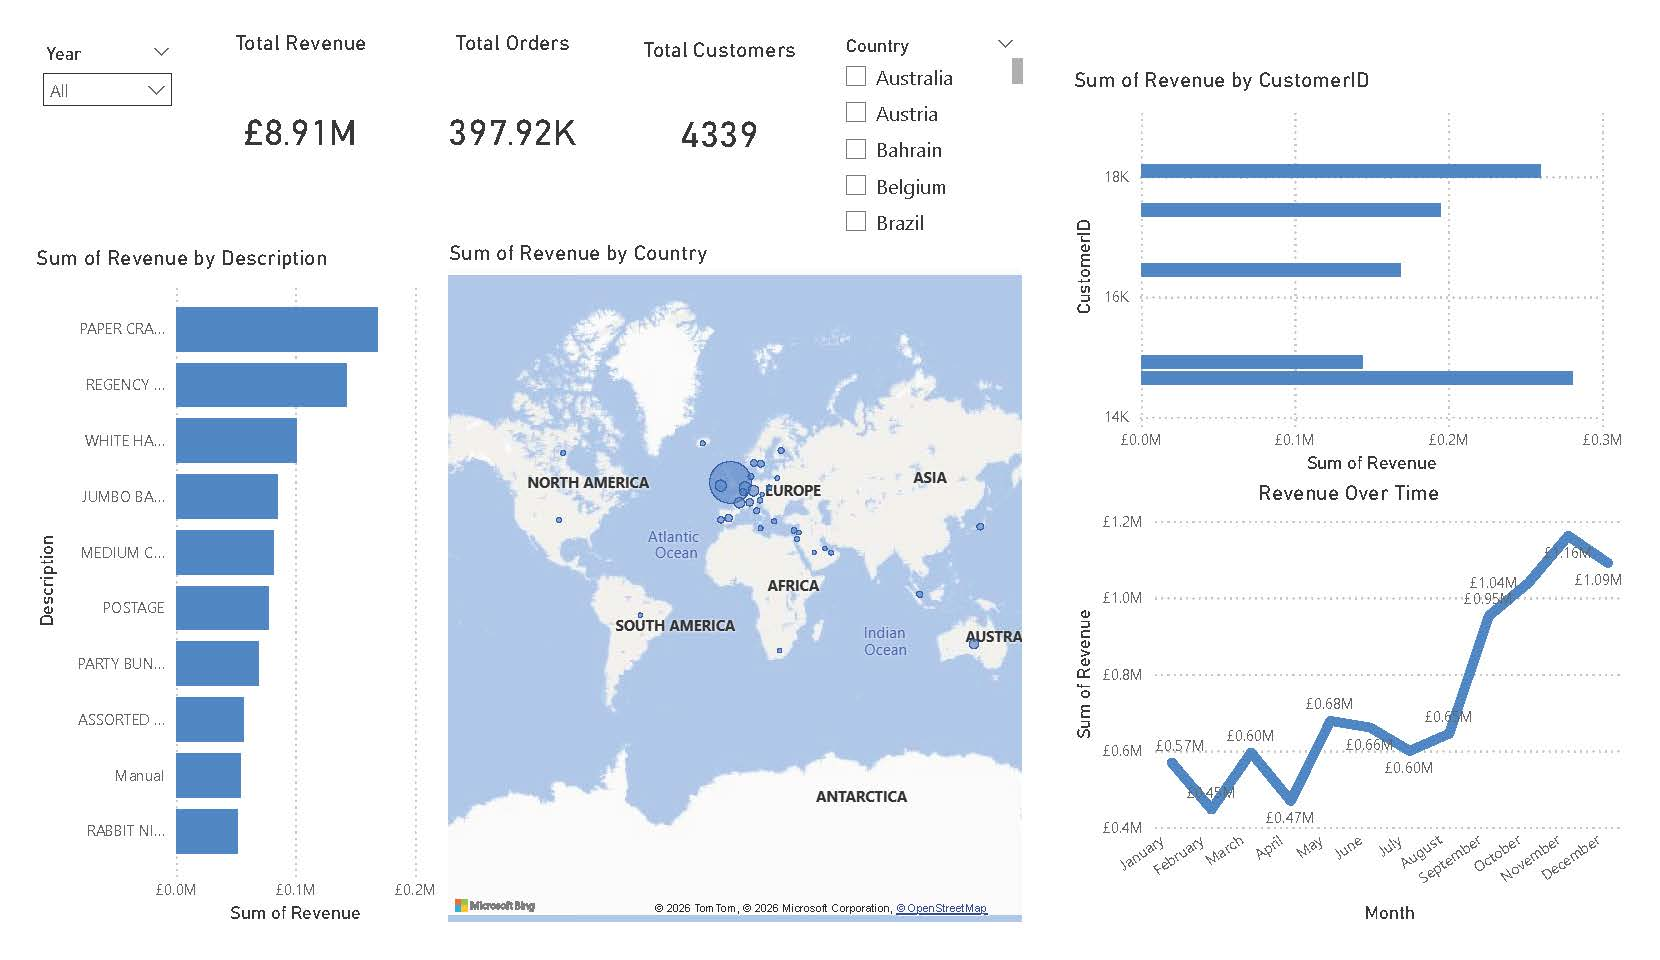

The dashboard page shown, as its layout file describes it:
{"tool":"powerbi","page":{"name":"Page 1","canvas":[1280,720],"ordinal":0},"visuals":[{"type":"card","title":"Total Revenue","fields":{"Values":["Sum(public sales.Revenue)"]},"box":[124.3,0,184.3,141.4],"z":0},{"type":"card","title":"Total Customers","fields":{"Values":["Count(public sales.CustomerID)"]},"box":[462.9,5.7,177.1,132.9],"z":1000},{"type":"card","title":"Total Orders","fields":{"Values":["CountNonNull(public sales.InvoiceNo)"]},"box":[308.6,0,154.3,141.4],"z":2000},{"type":"lineChart","title":"Revenue Over Time","fields":{"Y":["Sum(public sales.Revenue)"],"Category":["public sales.InvoiceDate.Variation.Date Hierarchy.Year","public sales.InvoiceDate.Variation.Date Hierarchy.Month"]},"box":[830,360,450,360],"z":3000},{"type":"clusteredBarChart","fields":{"Category":["public sales.CustomerID"],"Y":["Sum(public sales.Revenue)"]},"box":[830,30,450,330],"z":4000},{"type":"clusteredBarChart","fields":{"Y":["Sum(public sales.Revenue)"],"Category":["public sales.Description"]},"box":[0,172,330,548],"z":5000},{"type":"map","fields":{"Category":["public sales.Country"],"Size":["Sum(public sales.Revenue)"]},"box":[330,168,468,552],"z":6000},{"type":"slicer","fields":{"Values":["public sales.Year"]},"box":[0,5.7,124.3,162.9],"z":7000},{"type":"slicer","fields":{"Values":["public sales.Country"]},"box":[640,0,158.6,168.6],"z":8000}]}

Visuals, with their boxes in screenshot pixels (x1, y1, x2, y2), scaled from the page's 1280x720 canvas onto the 1660x960 screenshot:
"Total Revenue" card: 161,0,400,189
"Total Customers" card: 600,8,830,185
"Total Orders" card: 400,0,600,189
"Revenue Over Time" lineChart: 1076,480,1659,959
clusteredBarChart - public sales.CustomerID x Sum(public sales.Revenue): 1076,40,1659,480
clusteredBarChart - Sum(public sales.Revenue) x public sales.Description: 0,229,428,959
map - public sales.Country x Sum(public sales.Revenue): 428,224,1035,959
slicer - public sales.Year: 0,8,161,225
slicer - public sales.Country: 830,0,1036,225
